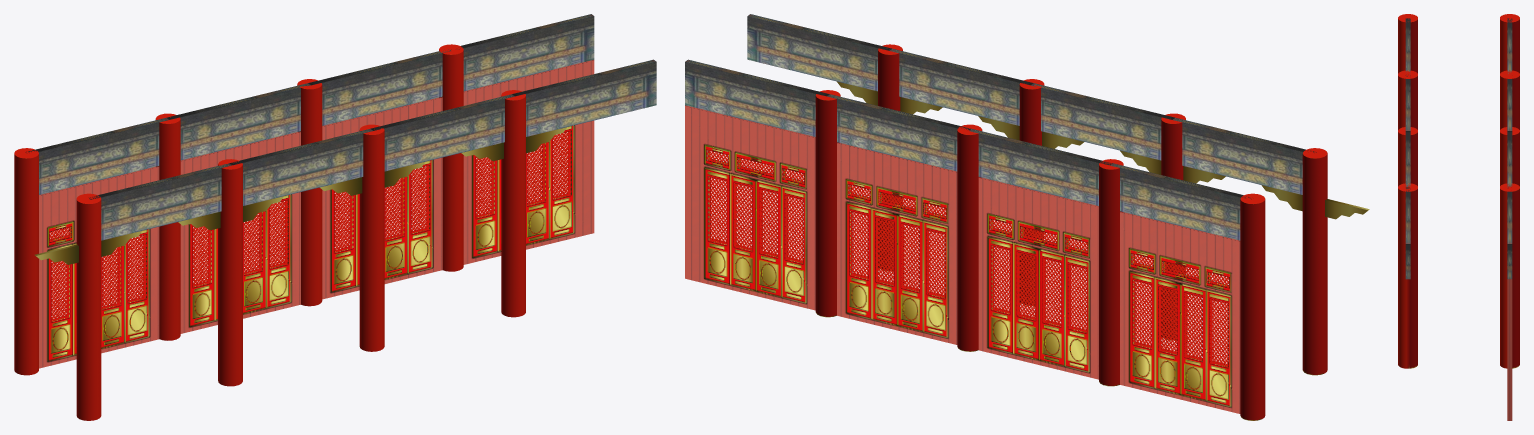
File: colwallwallwallwall.dae
3 views of the same model, side by side, from view 1: azimuth 30°, elevation 25°; view 2: azimuth 150°, elevation 25°; view 3: azimuth 270°, elevation 25° (orthographic). The views are drawn at different scales.
Parts seen in each view (by area): view 1: MainNode; view 2: MainNode; view 3: MainNode.
Boxes of the visible parts, <box> form: MainNode: <box>14,14,656,420</box>; MainNode: <box>685,14,1369,420</box>; MainNode: <box>1398,14,1519,420</box>.
Size of the model in its own units: 14.37 by 4.8 by 2.99.
1 material, 1 textured.
